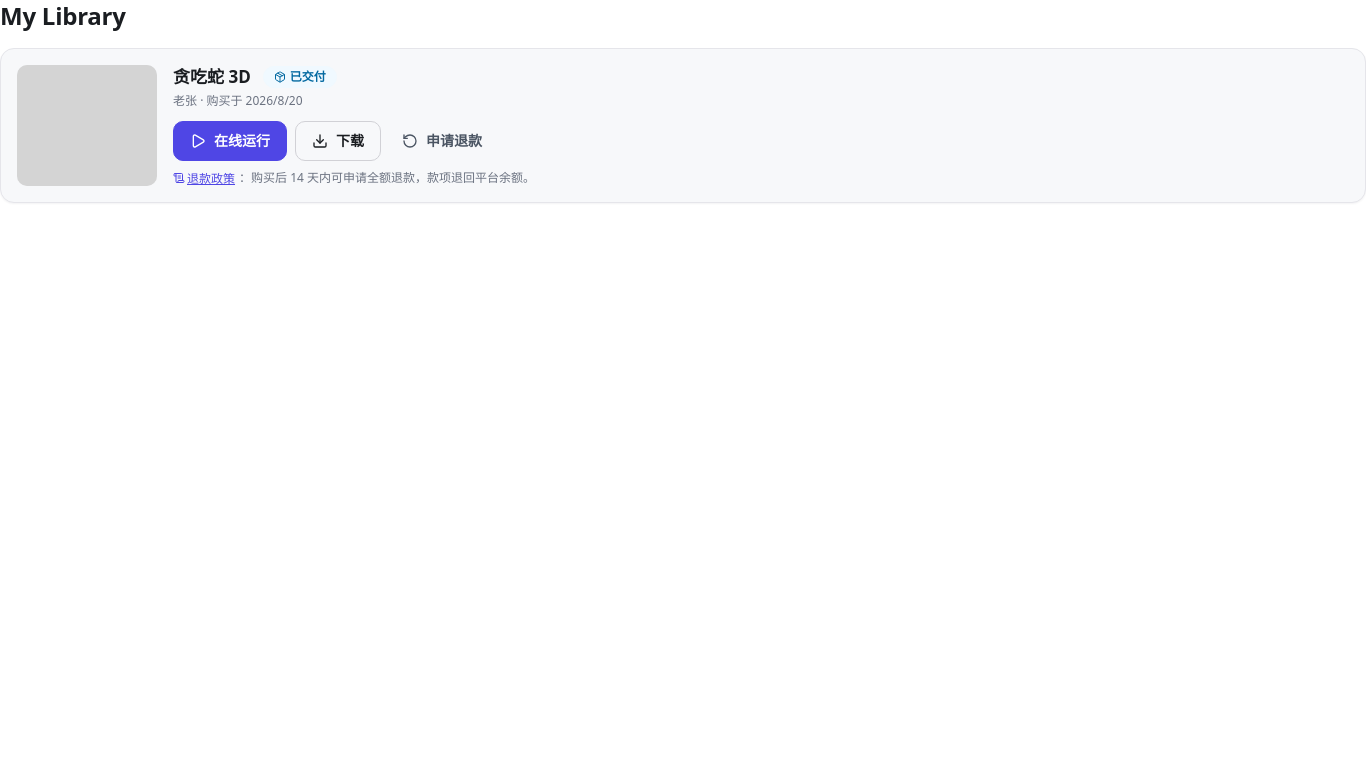
Test: LibraryPage（区域 3 My Library） › 申请退款 flow: confirm dialog → POST refund → success toast + status updated
The width and height of the screenshot is (1366, 768).
Expected: the link "贪吃蛇 3D" is shown, [173,65,251,88]
What coordinates should you click on to do the following:
click the button "申请退款"
I would click on:
 (442, 141)
Its box is [389,121,495,161].
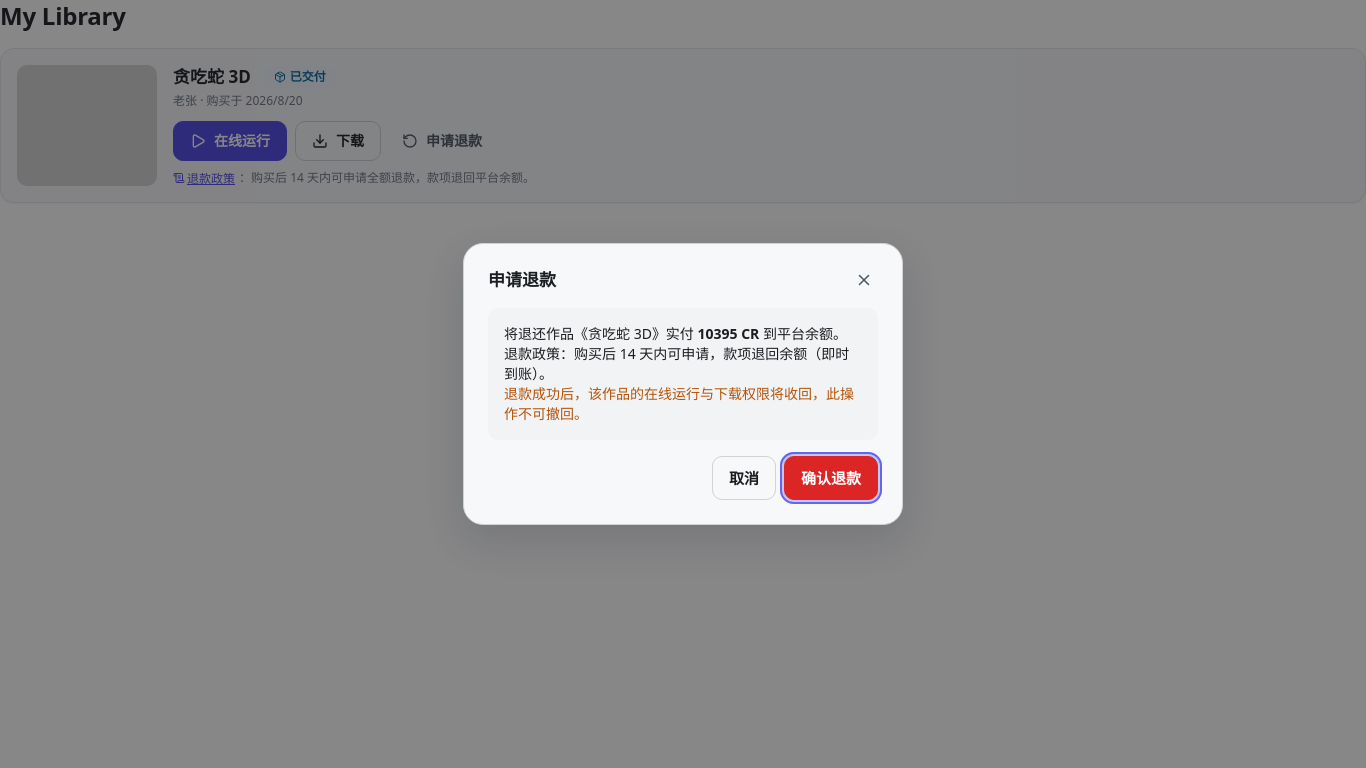
Result: the text "10395 CR" is shown at [698,324,759,343]
Result: the text "退款政策：购买后 14 天内可申请，款项退回余额（即时到账）。" is shown at [504,344,862,384]
What coordinates should you click on to do the following:
click the button "确认退款"
I would click on:
 (831, 478)
Its box is [784,456,878,500].
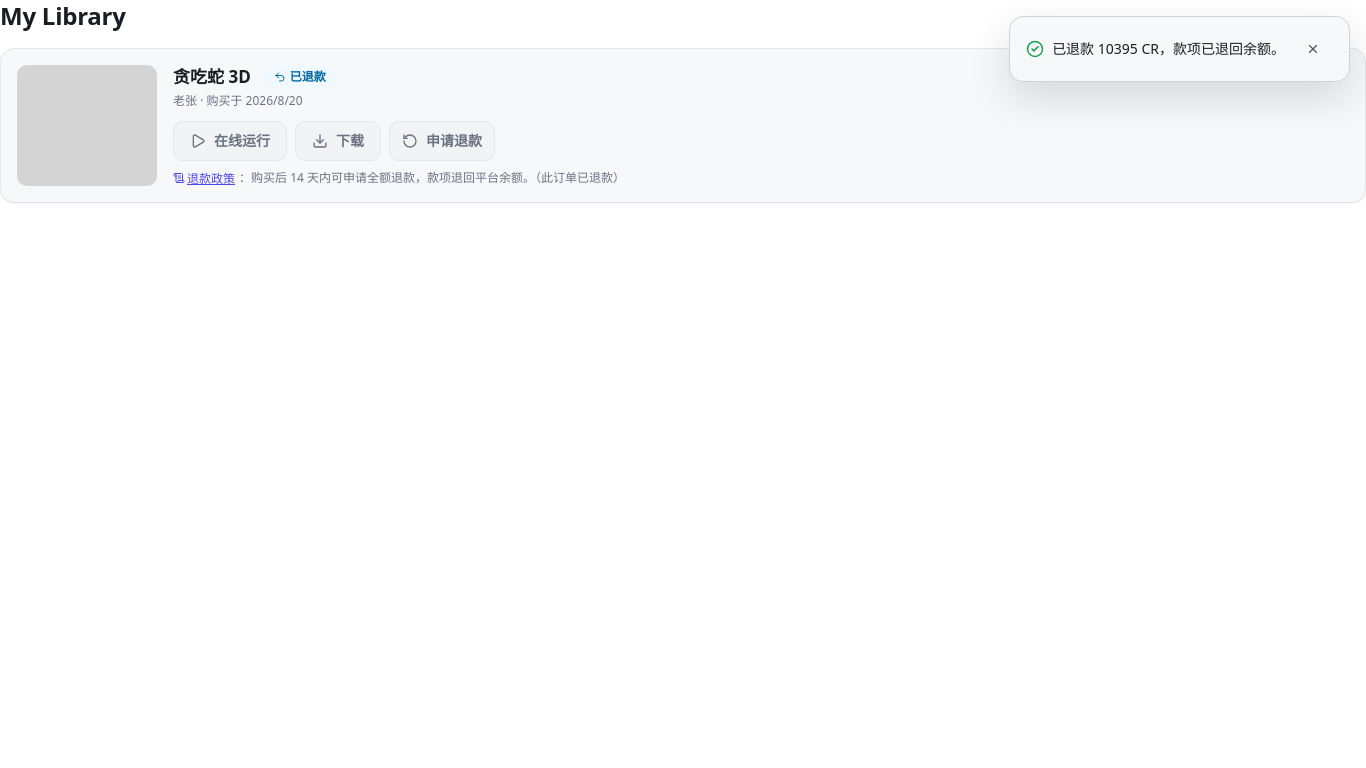
Result: the element with test id "toast" is shown at [1009,16,1350,82]
Result: the text "已退款" is shown at [290,69,326,85]
